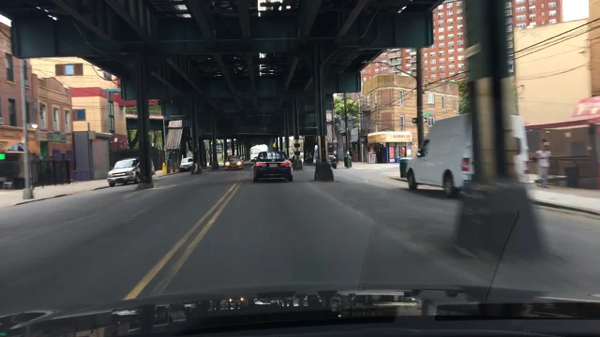car: (404, 112, 531, 196), (250, 151, 293, 181), (107, 158, 141, 187), (224, 154, 244, 171), (178, 158, 193, 173), (327, 152, 337, 158)
person: (535, 137, 552, 186)
